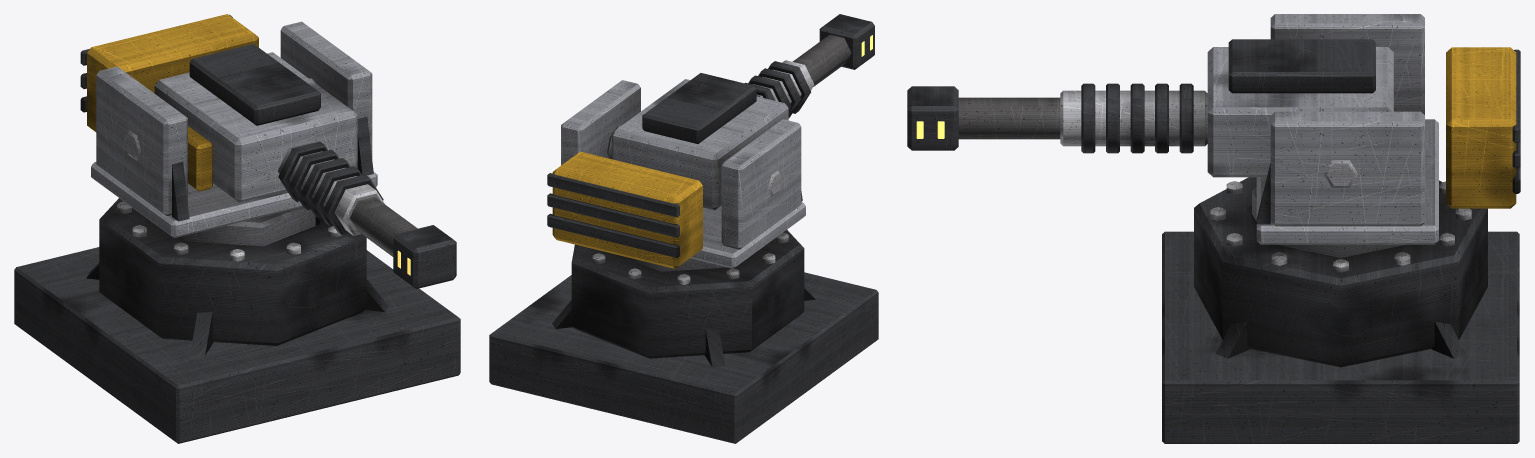
Rendered from R4W_Basic_LOD1.glb.
The picture shows the model from 3 angles, left to right: view 1: azimuth 30°, elevation 25°; view 2: azimuth 150°, elevation 25°; view 3: azimuth 270°, elevation 25°; orthographic projection. The views are drawn at different scales.
Visible parts, largest first — view 1: R4W_Basic_LOD1; view 2: R4W_Basic_LOD1; view 3: R4W_Basic_LOD1.
Boxes of the visible parts, bbox=[...] form: R4W_Basic_LOD1: bbox=[14, 14, 460, 443]; R4W_Basic_LOD1: bbox=[489, 14, 878, 443]; R4W_Basic_LOD1: bbox=[907, 14, 1520, 443].
Bounding box in the file's own units: 0.51 × 0.494 × 0.874.
5 materials, 4 textured.
